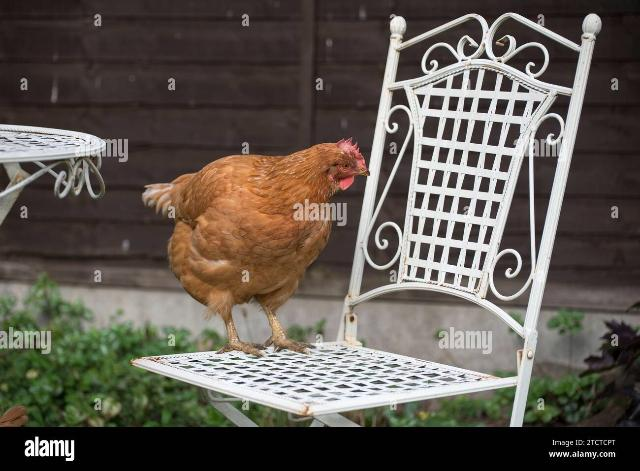Chicken: (142, 137, 372, 358)
